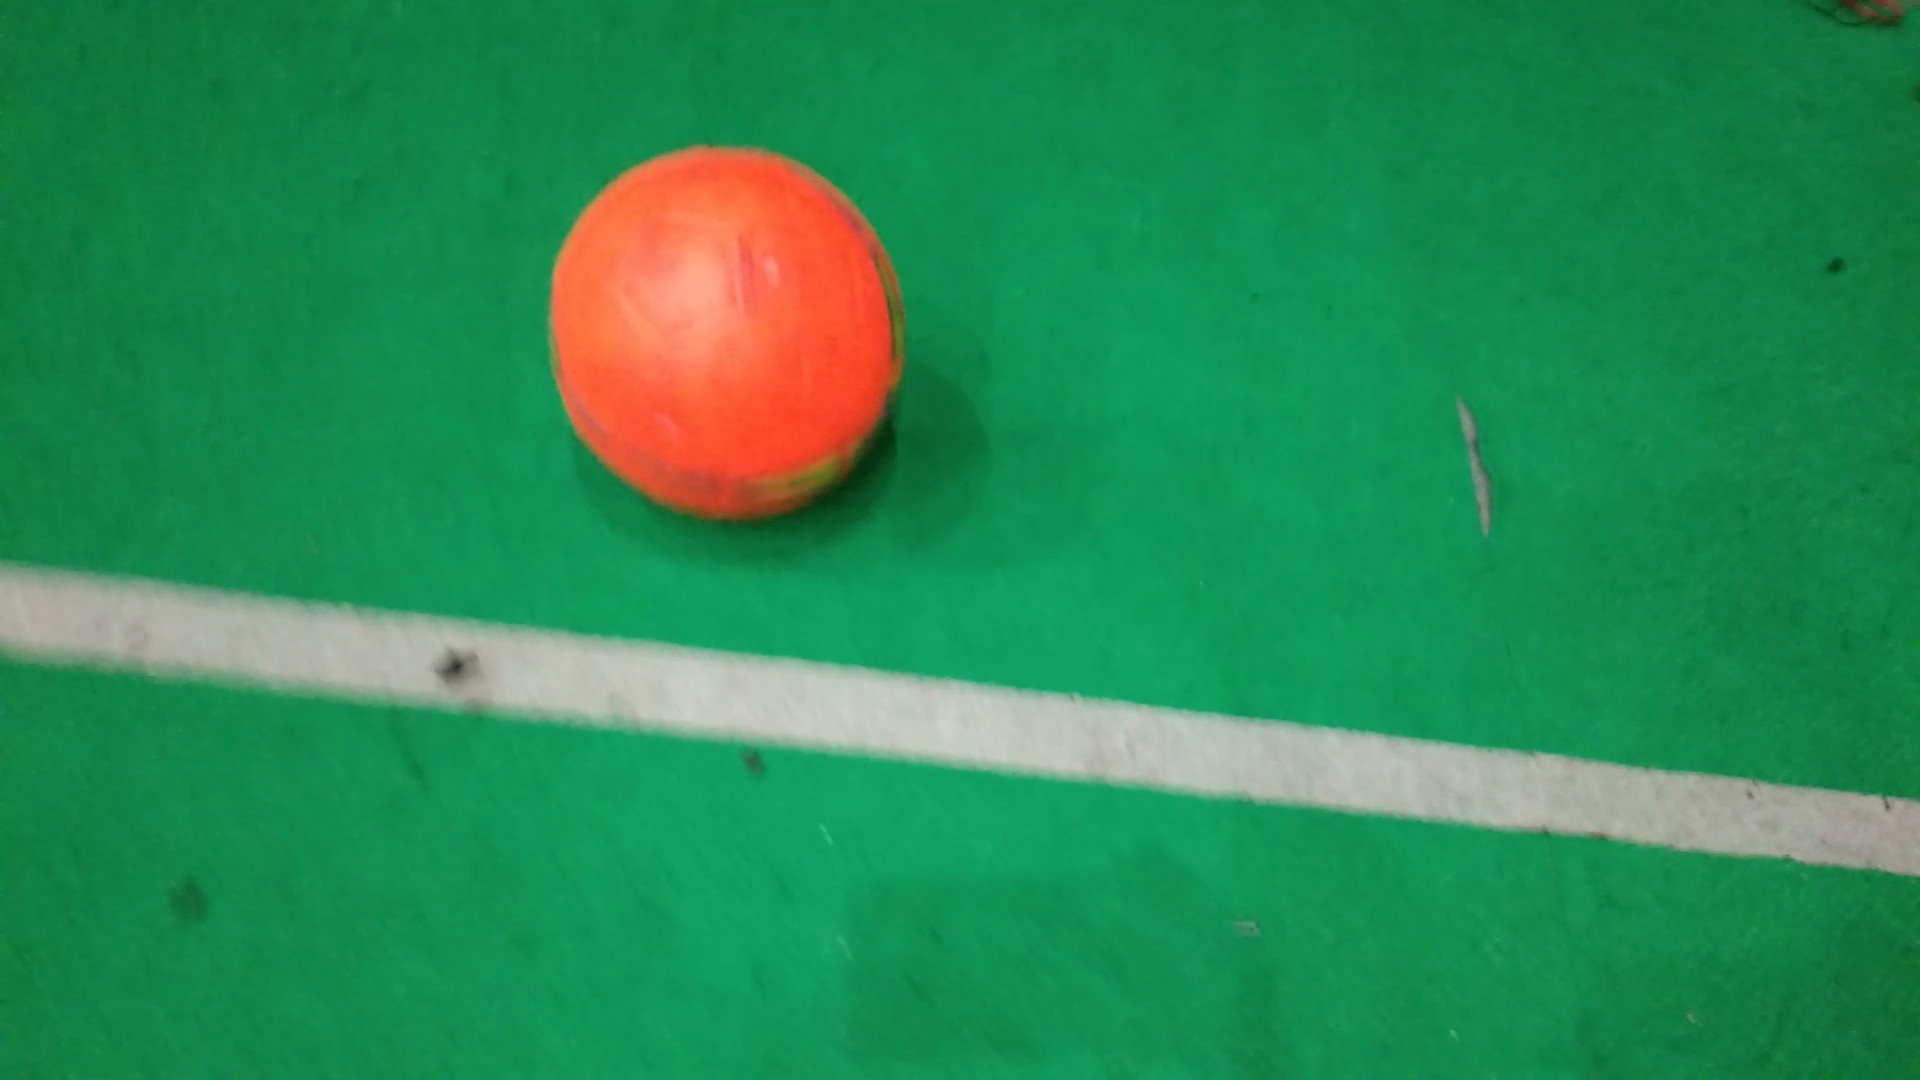bola: (541, 136, 924, 531)
